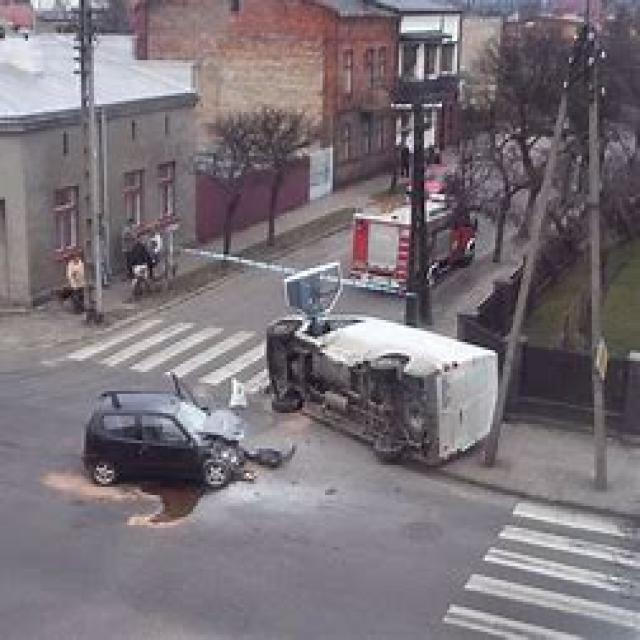Accident: (19, 261, 555, 611)
